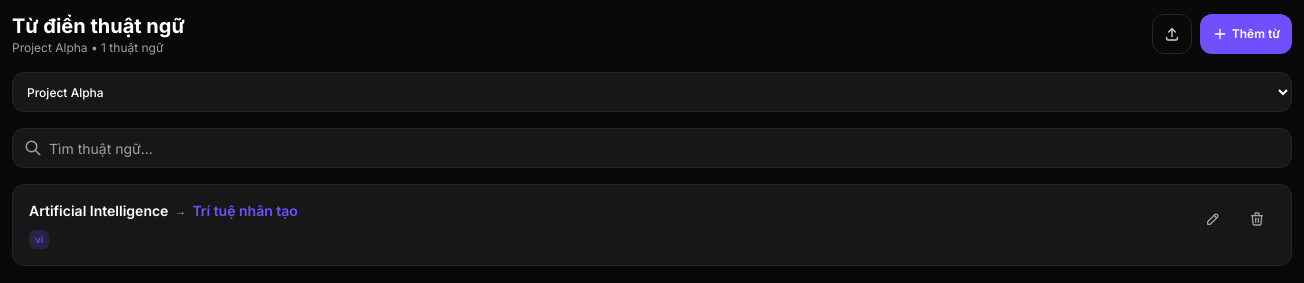
Test case: MobileGlossaryPage › switches glossary data by project id
Select "Project Beta" in the dropdown named "Chọn dự án" at point(652, 92), box [12,72,1292,112]
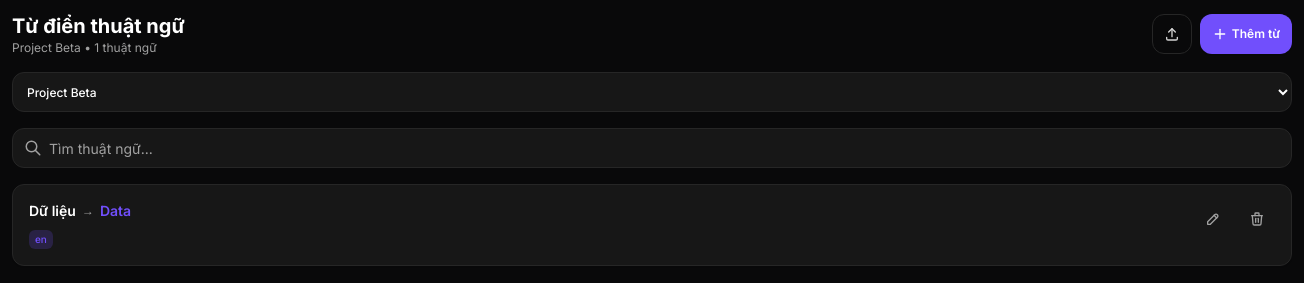
Check: the text "Dữ liệu" is shown, box [29,201,76,221]
Check: the text "Data" is shown, box [100,201,131,221]
